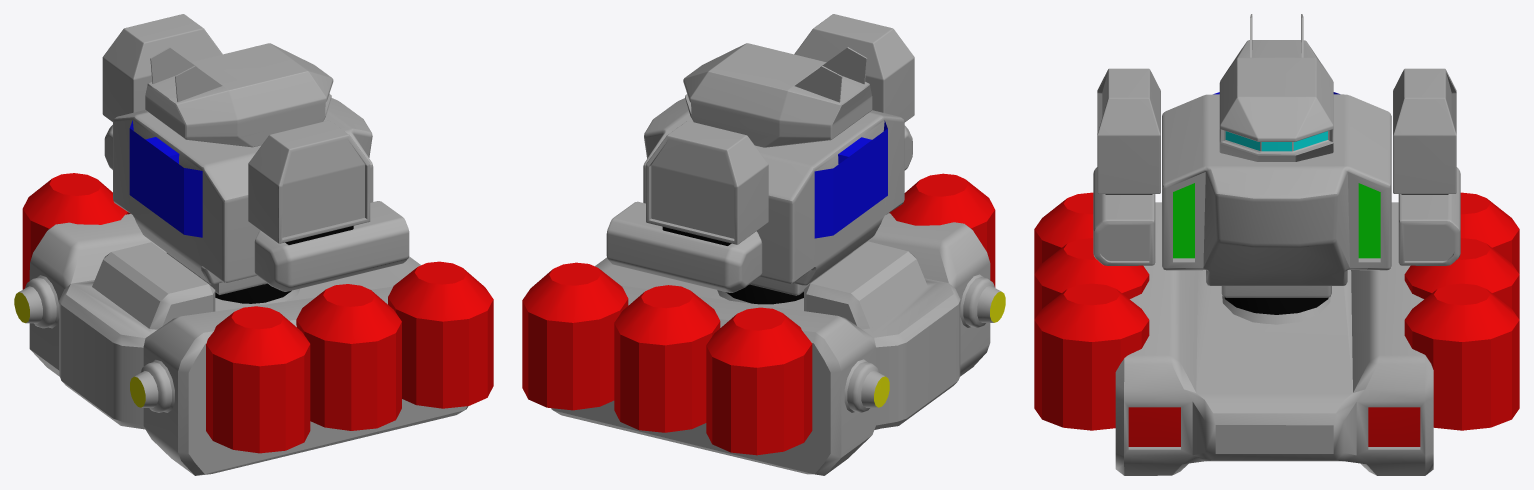
Rendered from Player_Mech.fbx.
3 views of the same model, side by side, from view 1: azimuth 30°, elevation 25°; view 2: azimuth 150°, elevation 25°; view 3: azimuth 270°, elevation 25° (orthographic).
Visible parts, largest first — view 1: MechBase, MechTorso, RightArmTop, RightArmBottom, MechLeftArmTop; view 2: MechBase, MechTorso, MechLeftArmTop, MechLeftArmBottom, RightArmTop; view 3: MechBase, MechTorso, MechLeftArmTop, RightArmTop, MechLeftArmBottom, RightArmBottom.
Part boxes in pixels (x1,y1,x2,y2): MechBase: [14, 173, 493, 475]; MechTorso: [113, 43, 373, 304]; RightArmTop: [248, 120, 370, 244]; RightArmBottom: [254, 201, 409, 291]; MechLeftArmTop: [102, 14, 222, 121]; MechBase: [522, 173, 1005, 475]; MechTorso: [643, 43, 904, 304]; MechLeftArmTop: [646, 121, 768, 245]; MechLeftArmBottom: [606, 201, 762, 292]; RightArmTop: [794, 14, 914, 122]; MechBase: [1034, 192, 1519, 475]; MechTorso: [1162, 14, 1391, 324]; MechLeftArmTop: [1393, 68, 1456, 194]; RightArmTop: [1097, 68, 1160, 194]; MechLeftArmBottom: [1398, 167, 1460, 265]; RightArmBottom: [1093, 167, 1155, 265].
Bounding box in the file's own units: 3.14 × 3.01 × 3.69.
